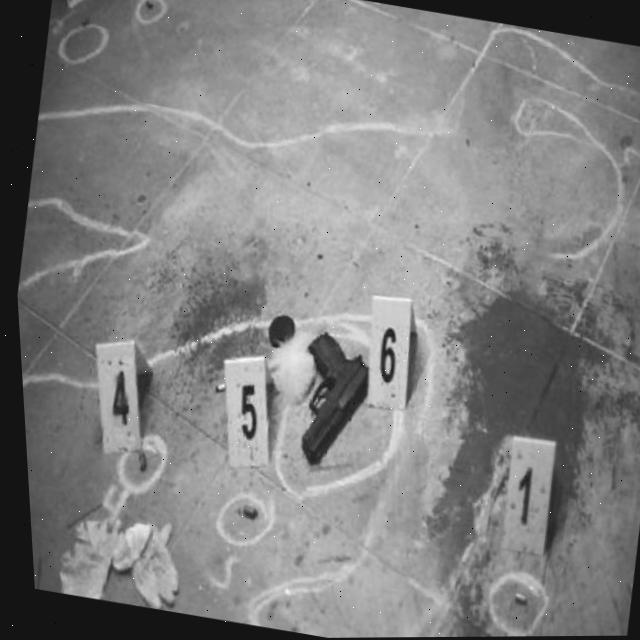gun: (278, 324, 378, 480)
